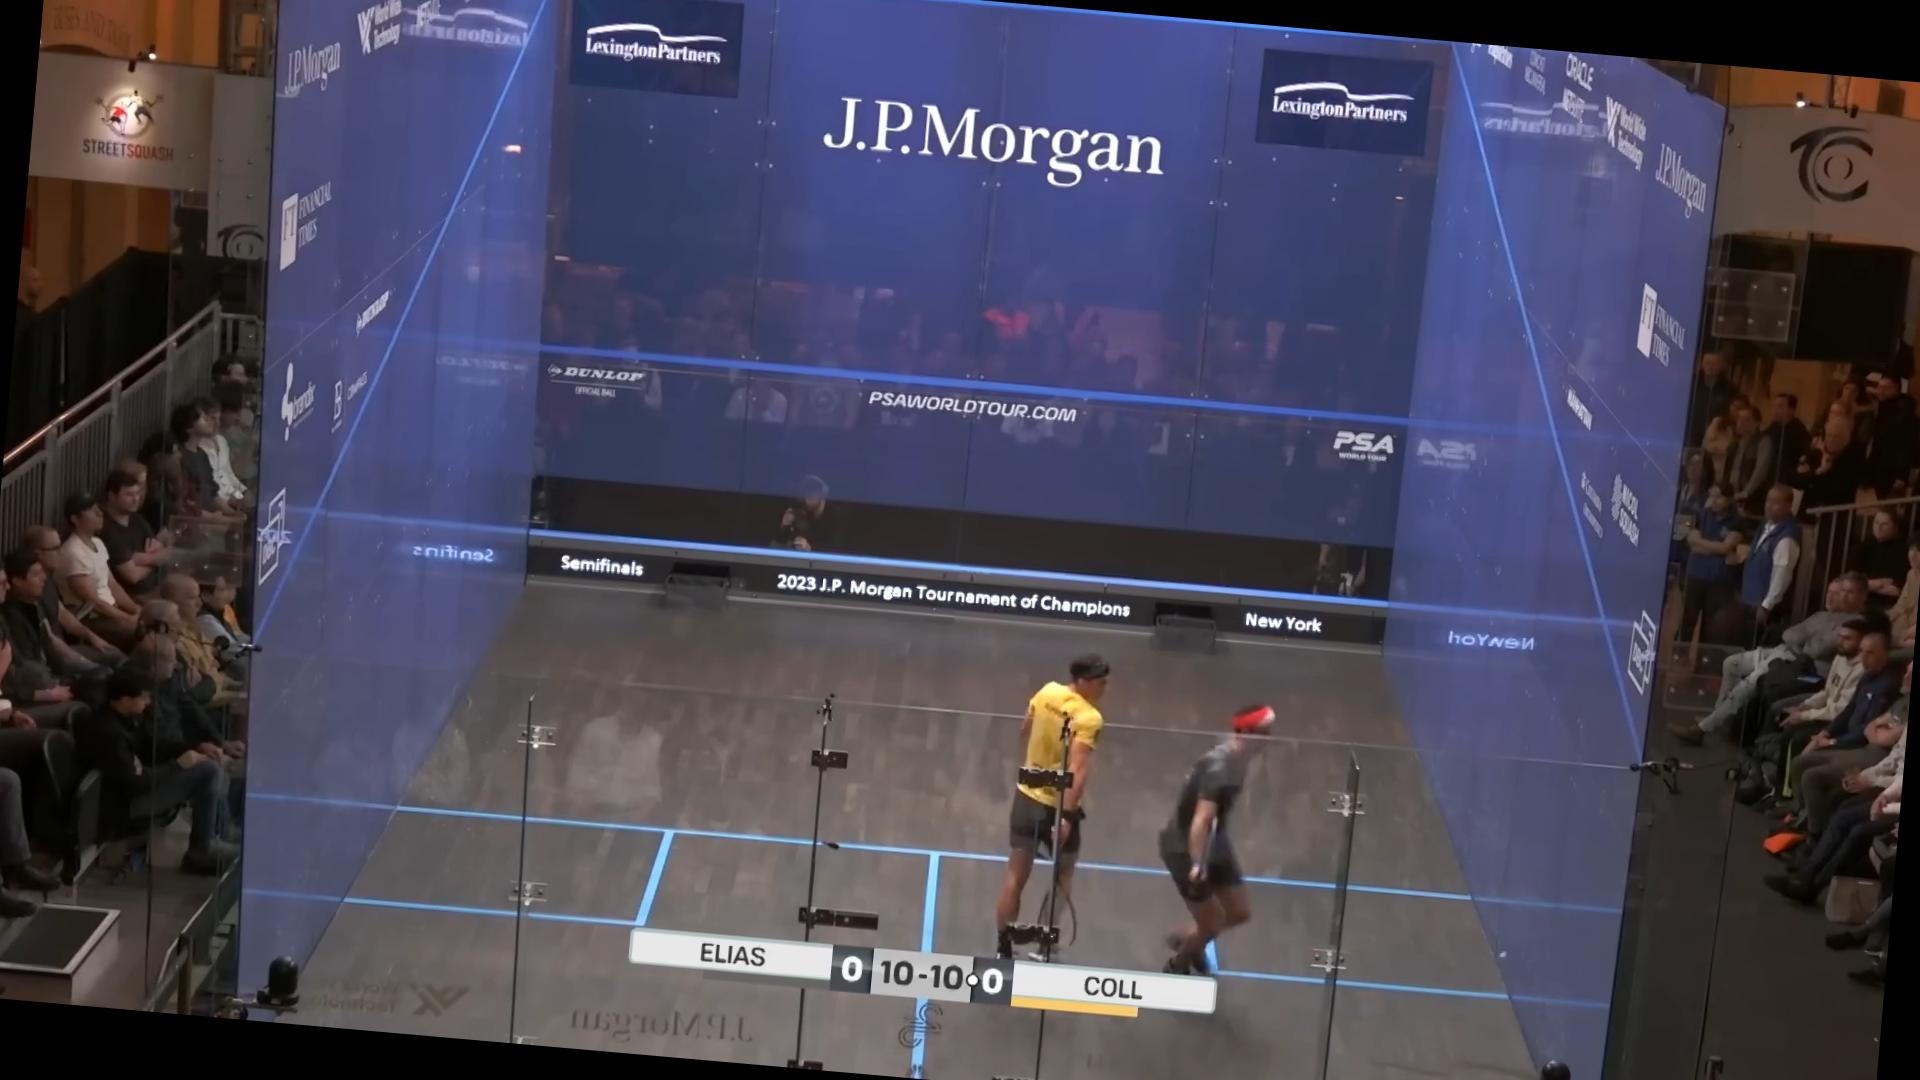Racket: (1029, 841, 1087, 964)
